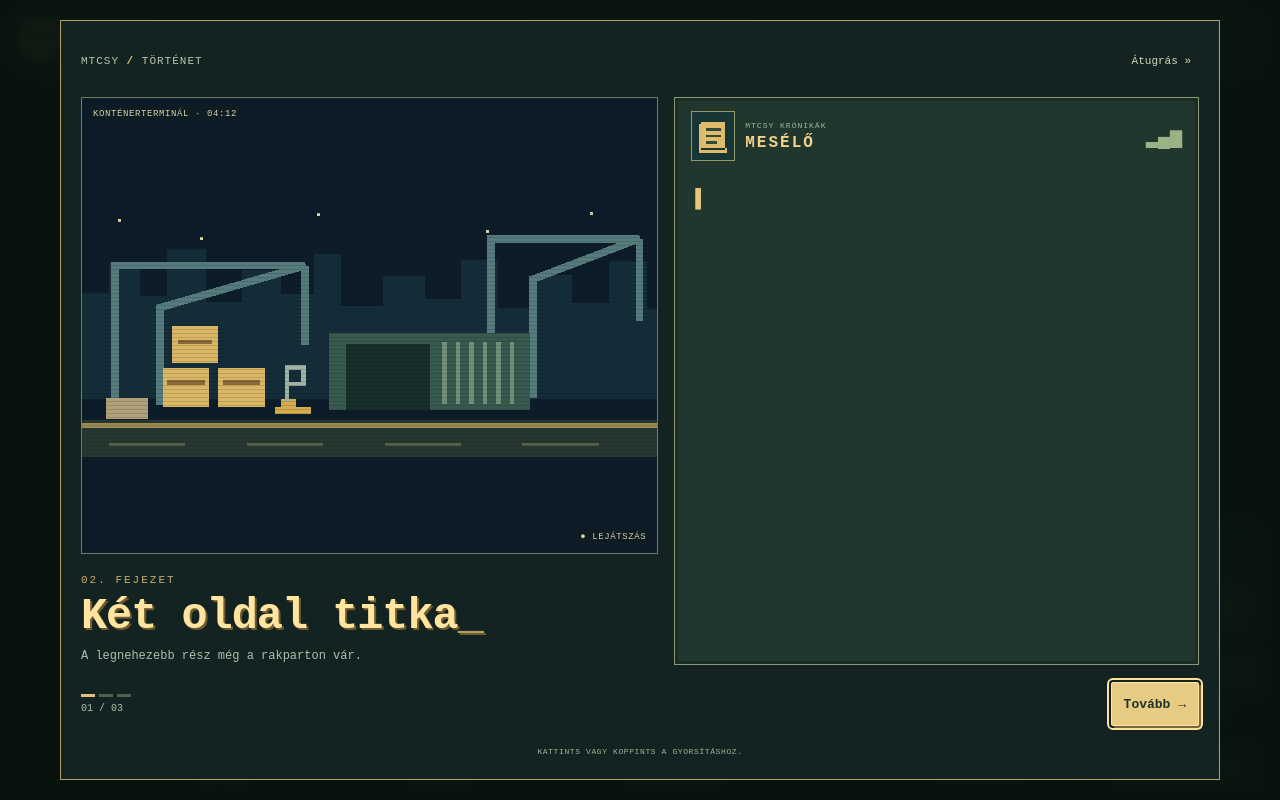
Scenario: Lapozható súgó › a kikötőben is megállítja a vezérlést, és Escape-pel bezárható
The width and height of the screenshot is (1280, 800).
Click the button "Átugrás »".
click(1161, 61)  # box [1124,45,1199,77]
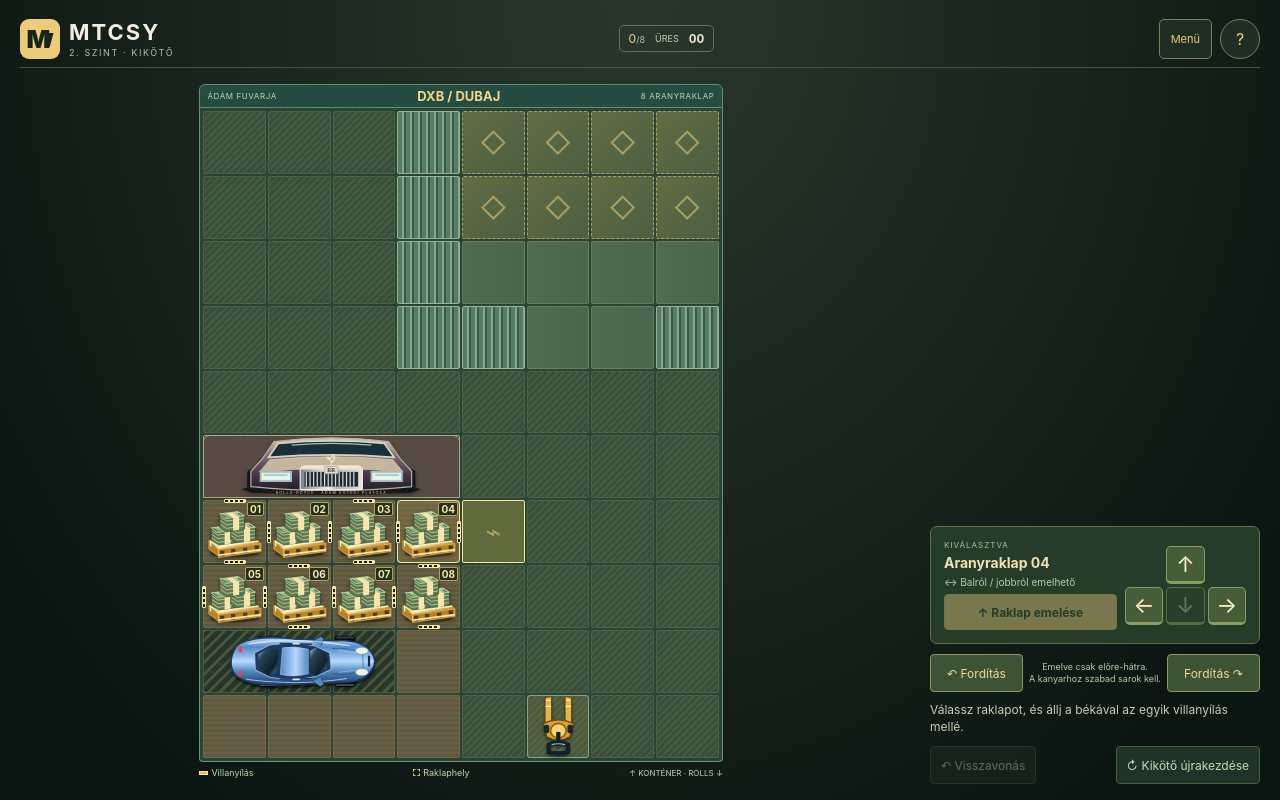
Click the button named "Kikötői szabályok".
click(1240, 38)  # box [1220,18,1260,58]
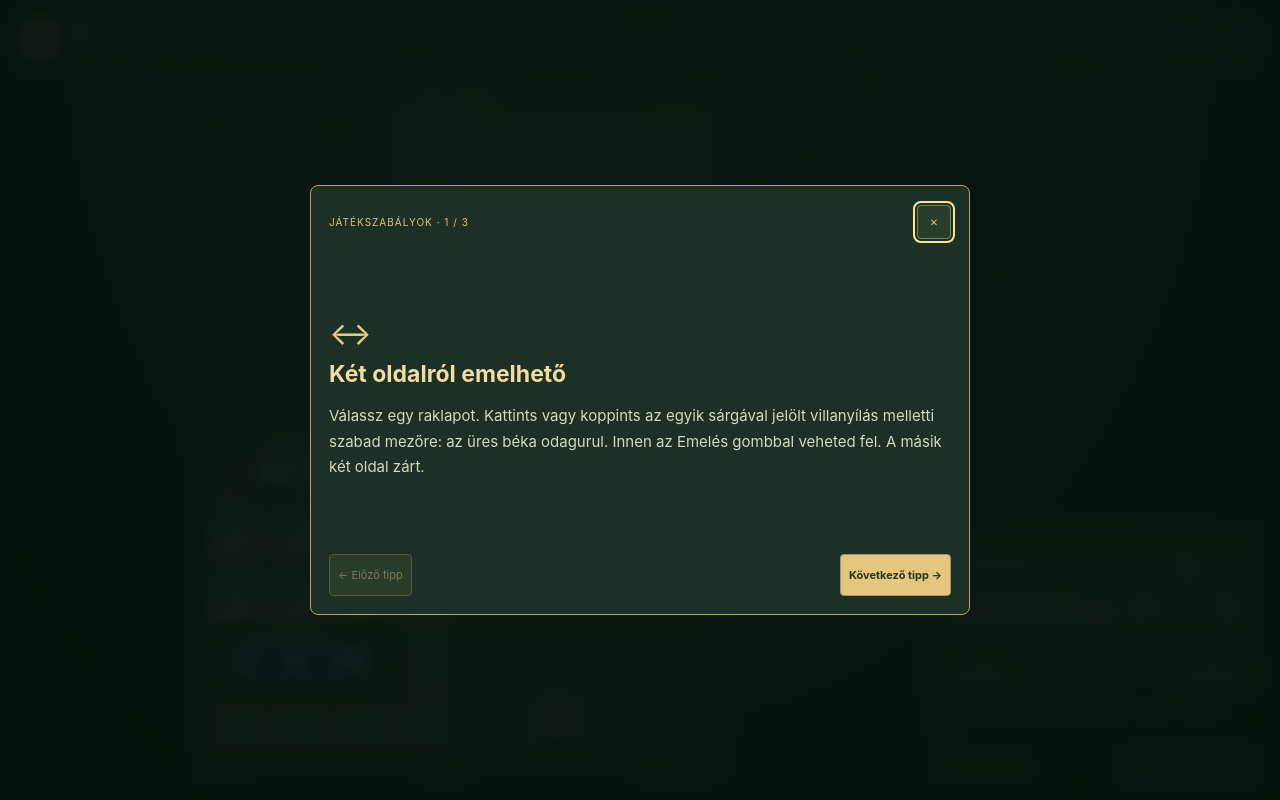
Type keys "{ArrowUp}qe"
Press Shift+Tab
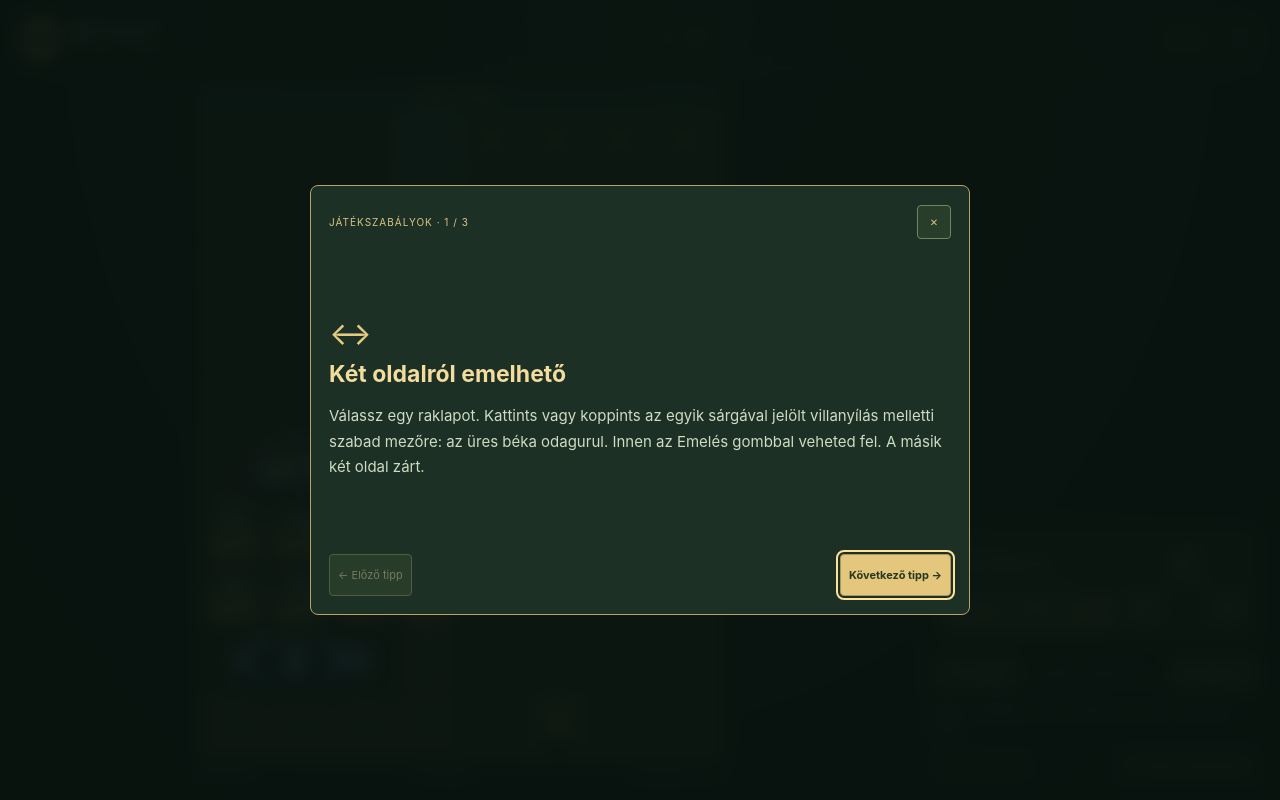
Press Escape
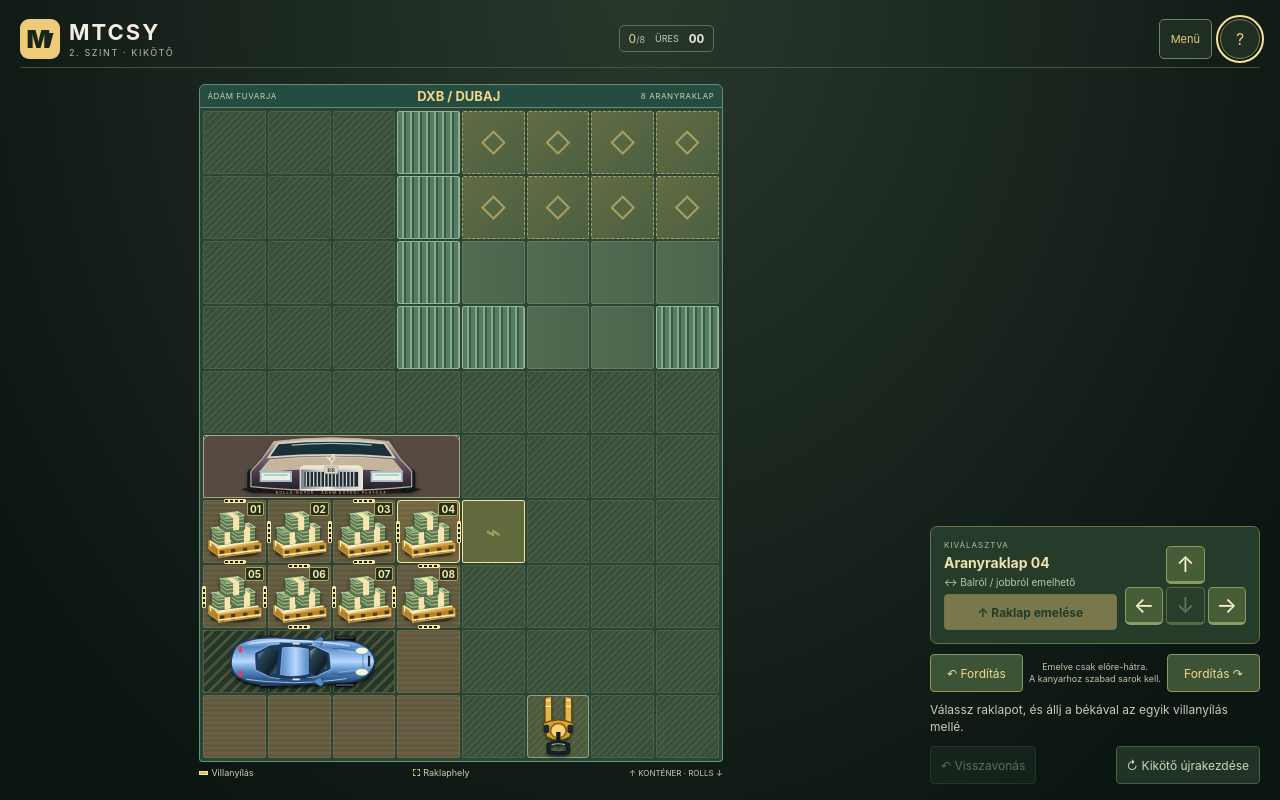
Expected: the button named "Béka, üres, 10. sor, 6. oszlop" is shown, [527,695,589,758]
Expected: the dialog is gone
